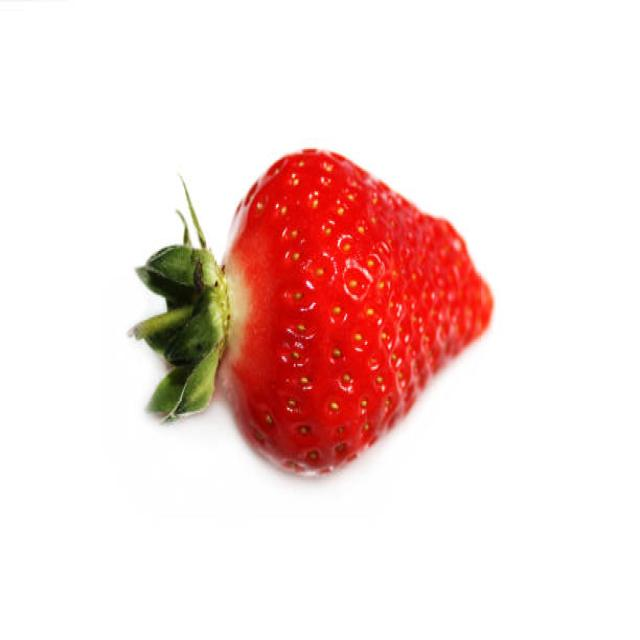Healthy Fruit: (223, 147, 491, 473)
